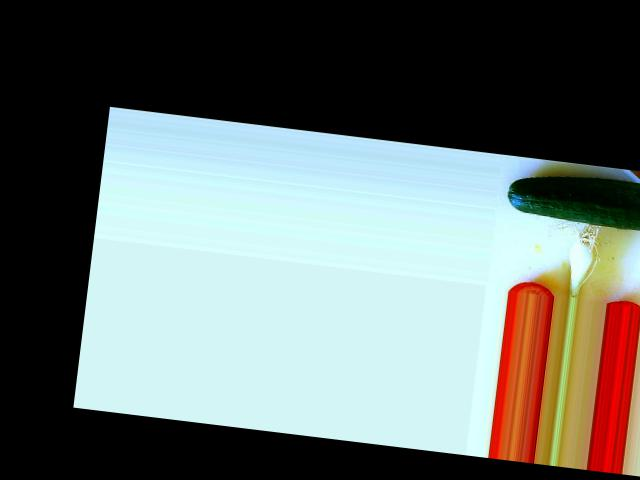cucumber: (504, 166, 640, 233)
